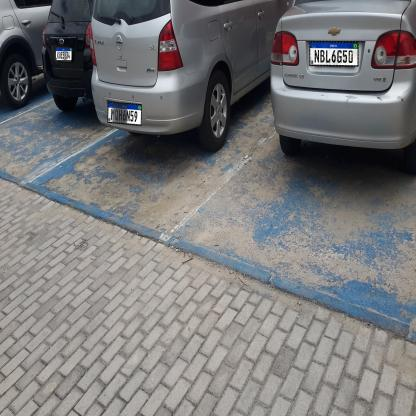PlacaM: (310, 41, 358, 67), (107, 101, 142, 126), (56, 47, 72, 61)
